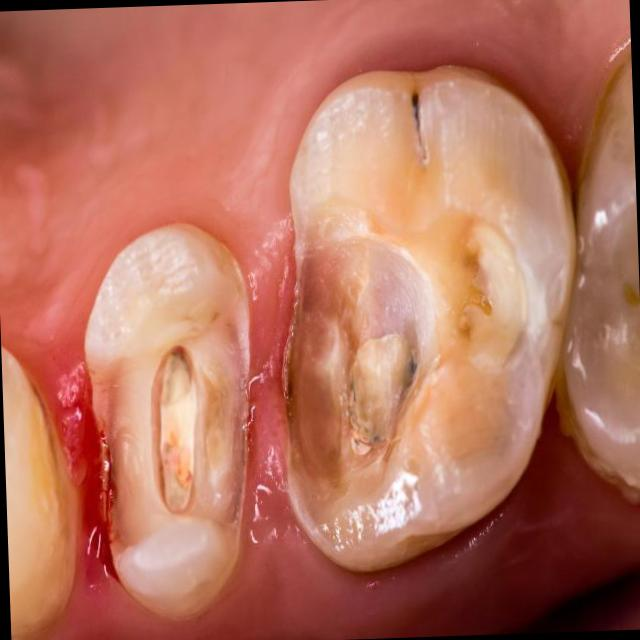caries: (268, 56, 587, 570), (86, 219, 263, 616)
